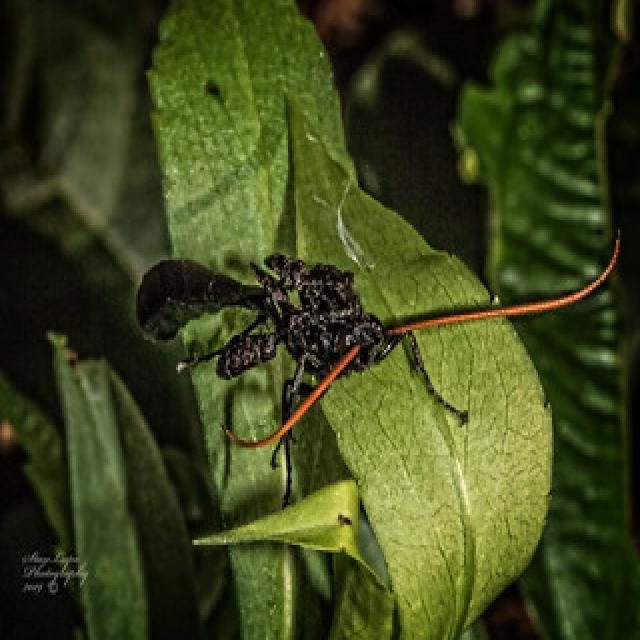Guepe: (118, 206, 632, 465)
